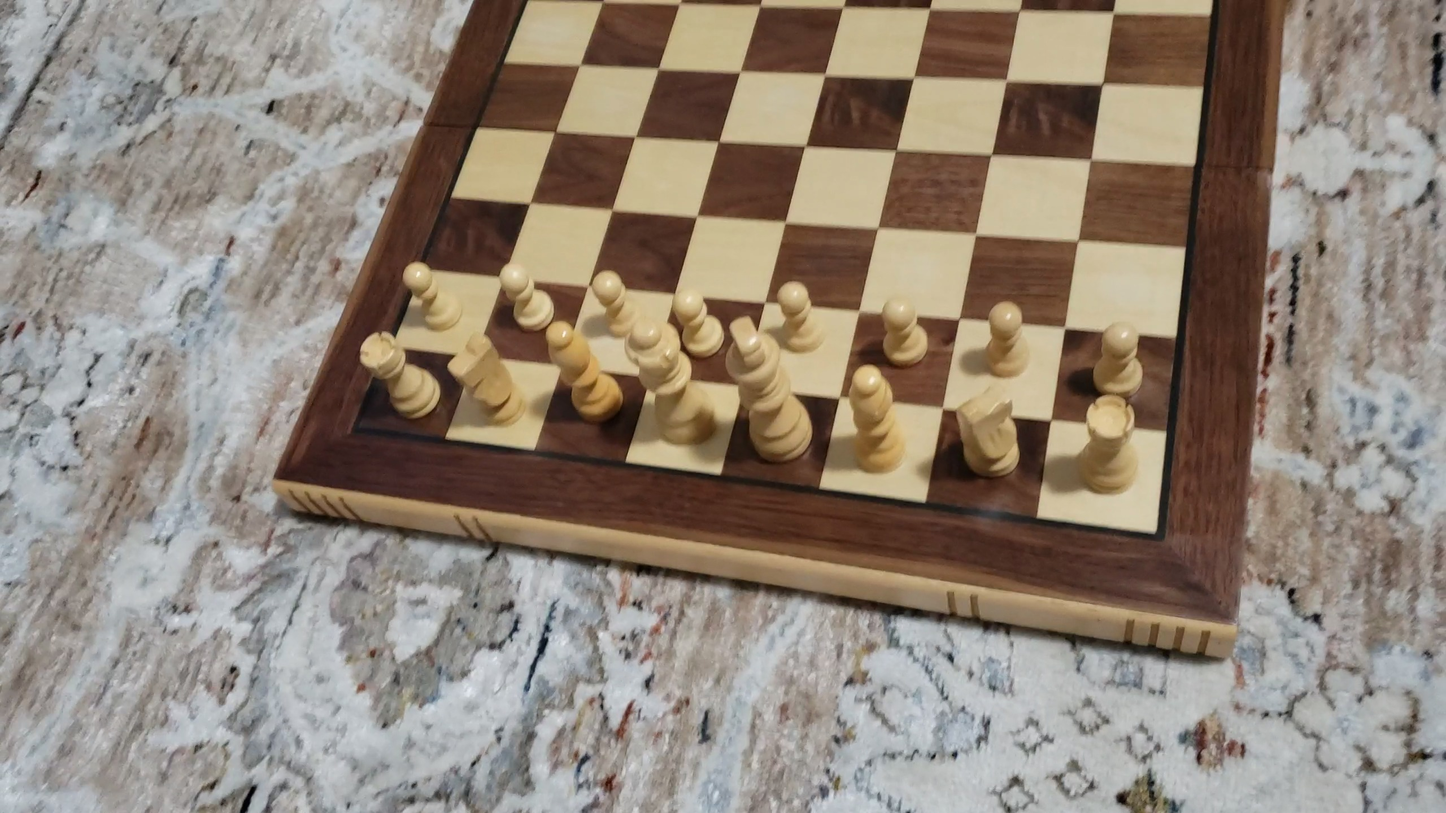white-bishop: (541, 319, 628, 427), (840, 362, 913, 478)
white-king: (717, 315, 817, 470)
white-knight: (444, 333, 531, 429), (950, 387, 1026, 483)
white-pawn: (1086, 316, 1149, 404), (398, 258, 463, 335), (768, 277, 830, 356), (874, 290, 934, 371), (494, 259, 557, 335), (980, 296, 1035, 382), (668, 283, 725, 361), (586, 266, 641, 342)
white-queen: (620, 320, 725, 451)
white-rook: (1072, 392, 1148, 499), (358, 329, 444, 423)
